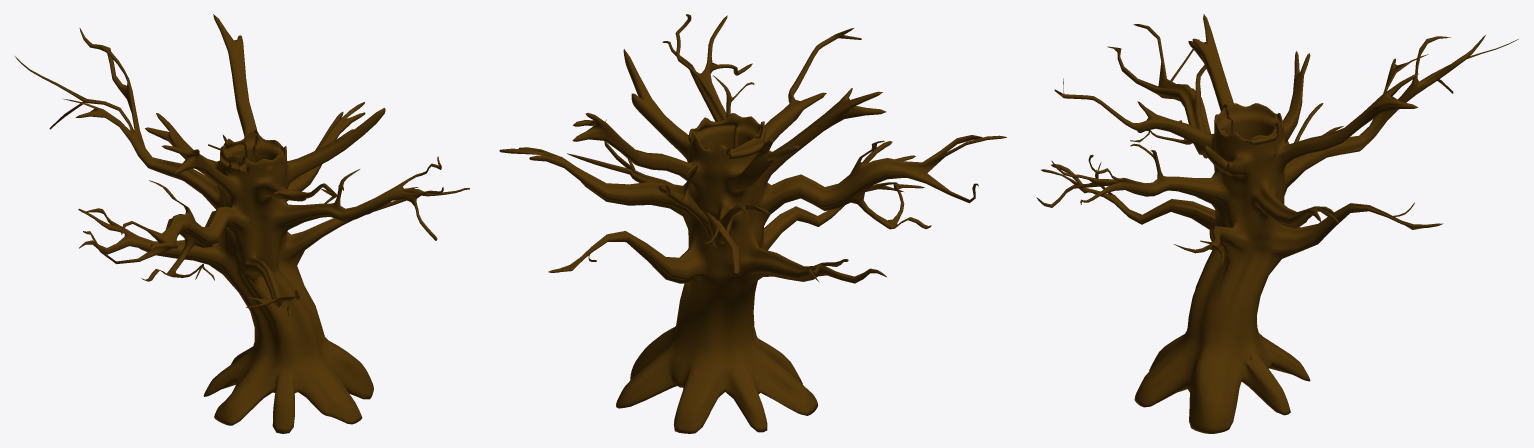
File: spooky tree no holes.fbx
3 renders of one model, left to right at view 1: azimuth 30°, elevation 25°; view 2: azimuth 150°, elevation 25°; view 3: azimuth 270°, elevation 25°, orthographic. The views are drawn at different scales.
Parts seen in each view (by area): view 1: tree w/o holes; view 2: tree w/o holes; view 3: tree w/o holes.
Boxes of the visible parts, x1,y1,x2,y2 form: tree w/o holes: (15, 14, 469, 433); tree w/o holes: (499, 14, 1006, 433); tree w/o holes: (1036, 14, 1518, 433).
Size of the model in its own units: 722 by 627 by 830.
